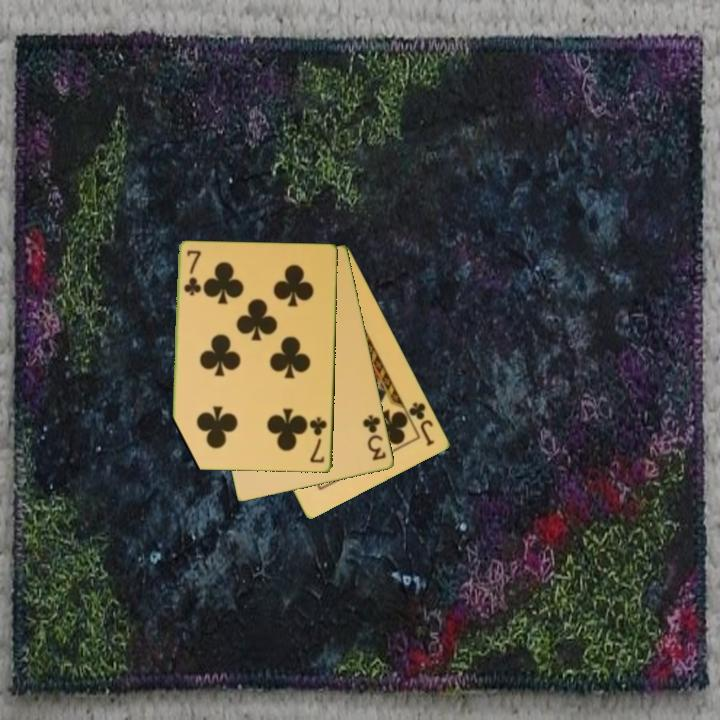3c: (359, 411, 389, 464)
7c: (307, 414, 330, 466), (180, 247, 202, 298)
Jc: (401, 398, 438, 449)
